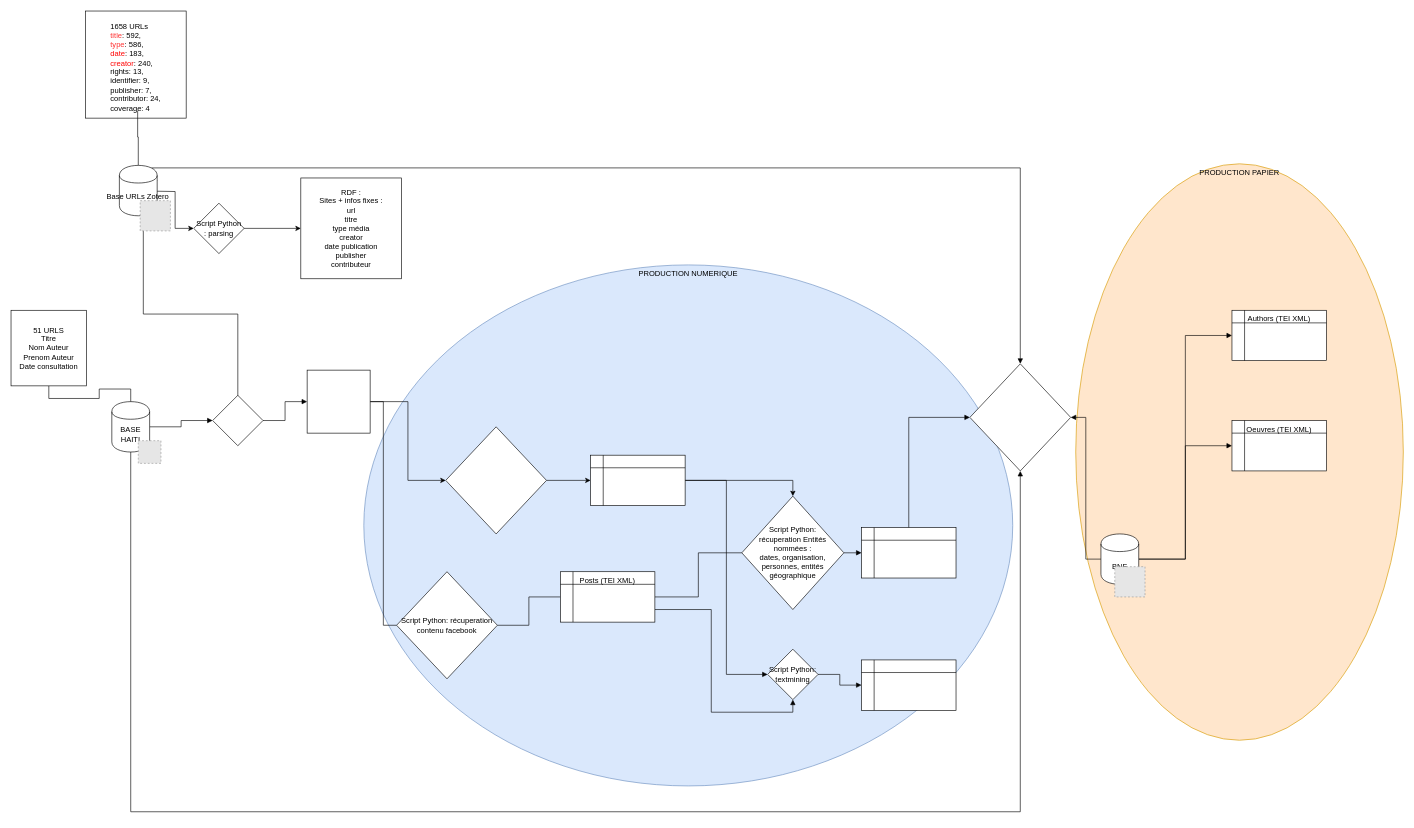
Some shapes in this 1414 by 828 pixel diagram are drawn without their labels. Grey dashed boxes stand in for pictures. The shapes that lost their labels are listed below. From the top down, each one's centre as x and y in pixels, then its label:
At pixel 237 420: "Script Python : parsing/ matching".
At pixel 338 401: "Match URL - DATA RDF".
At pixel 1020 417: "Script python requete SPARQL".
At pixel 496 480: "Script Python: récuperation contenu blog".
At pixel 637 480: "Blog content files (TEI XML)".
At pixel 908 552: "Entités Candidates (TEI XML)".
At pixel 908 684: "Elements Discours".
